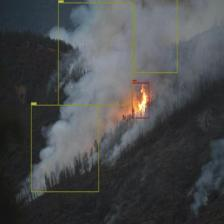fire: (132, 82, 149, 119)
smoke: (58, 2, 133, 105), (31, 104, 99, 192), (134, 0, 178, 73)
